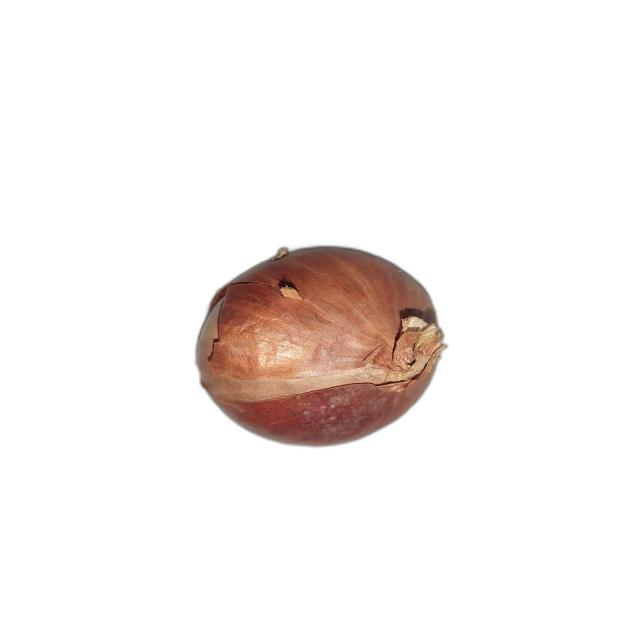onion: (195, 246, 446, 447)
